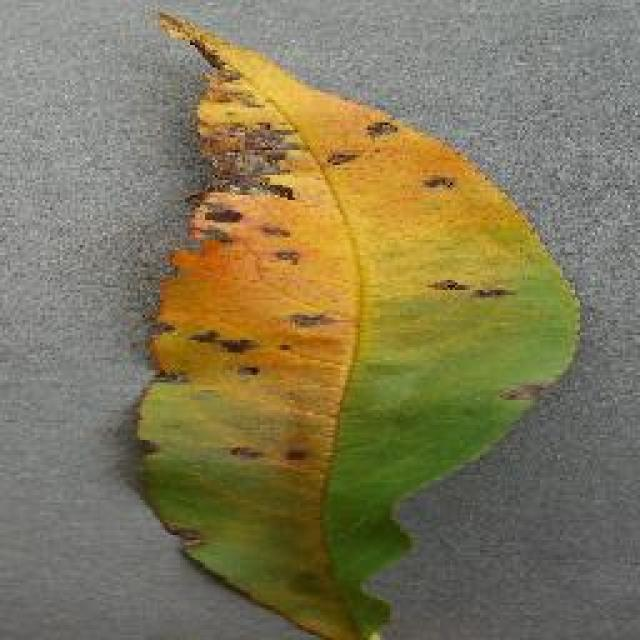Peach_Bacterial_Spot: (163, 52, 525, 475)
